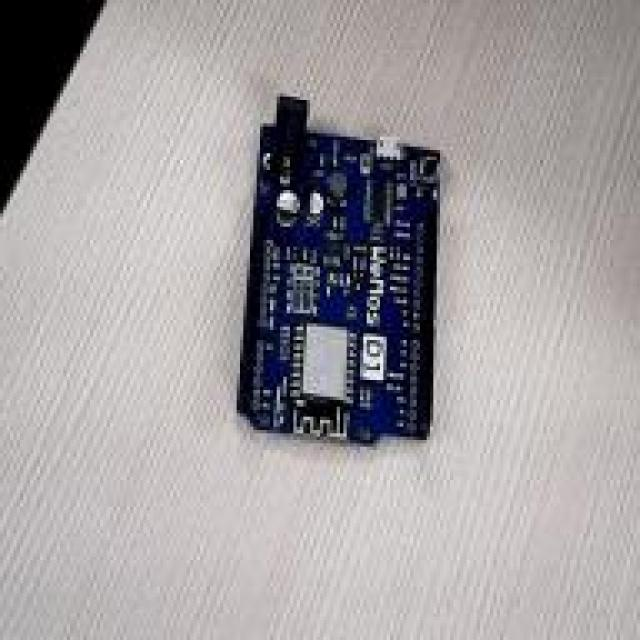Wemos: (238, 98, 438, 441)
